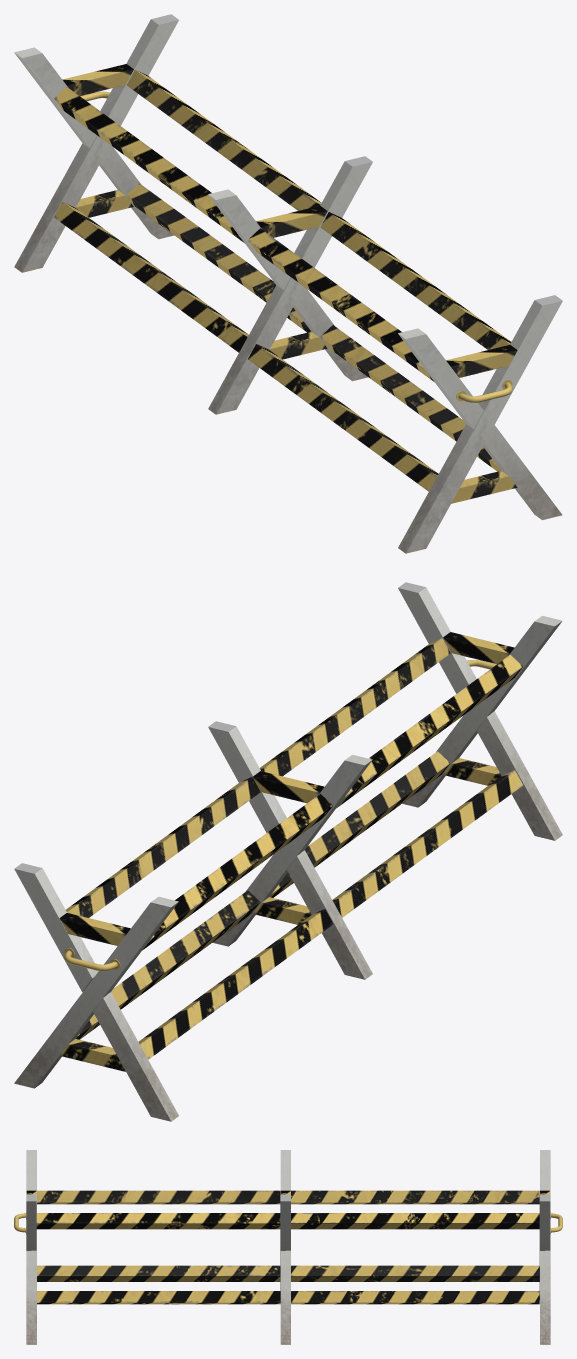
File: SM_TrafficBarrier_2.fbx
3 renders of one model, top to bottom at view 1: azimuth 30°, elevation 25°; view 2: azimuth 150°, elevation 25°; view 3: azimuth 270°, elevation 25°, orthographic. The views are drawn at different scales.
Parts seen in each view (by area): view 1: SM_TrafficBarrier_2_LOD0; view 2: SM_TrafficBarrier_2_LOD0; view 3: SM_TrafficBarrier_2_LOD0.
Boxes of the visible parts, x1,y1,x2,y2 form: SM_TrafficBarrier_2_LOD0: (14,14,562,553); SM_TrafficBarrier_2_LOD0: (14,582,562,1121); SM_TrafficBarrier_2_LOD0: (14,1150,562,1344).
Bounding box in the file's own units: 84.11 × 380 × 110.
1 material, 1 textured.
